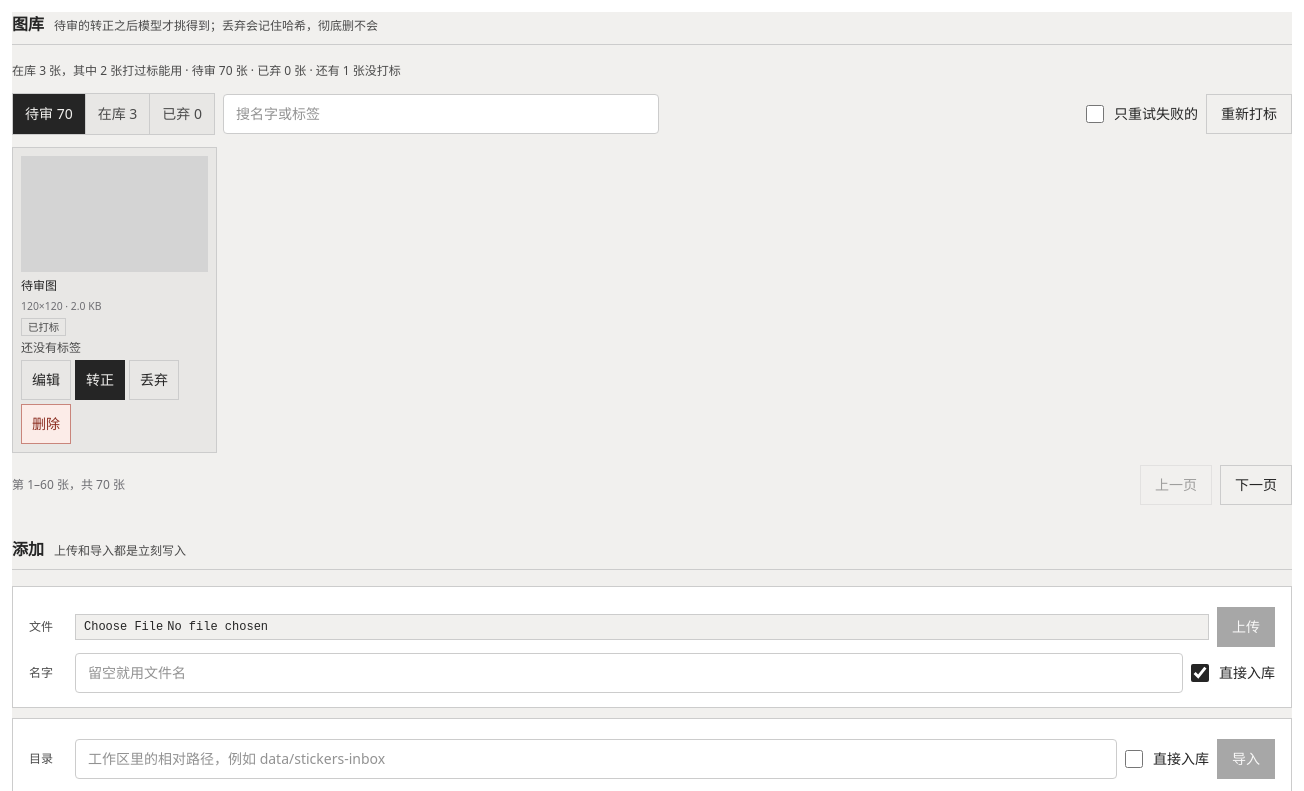
Test case: 图库的那一句提示 › 转正的回执读不懂：照转正了交代，回执的事另起一行报
expect the text "待审图" is shown: met, box [21,277,57,294]
Click the button "转正".
click(100, 380)  # box [75,360,125,400]
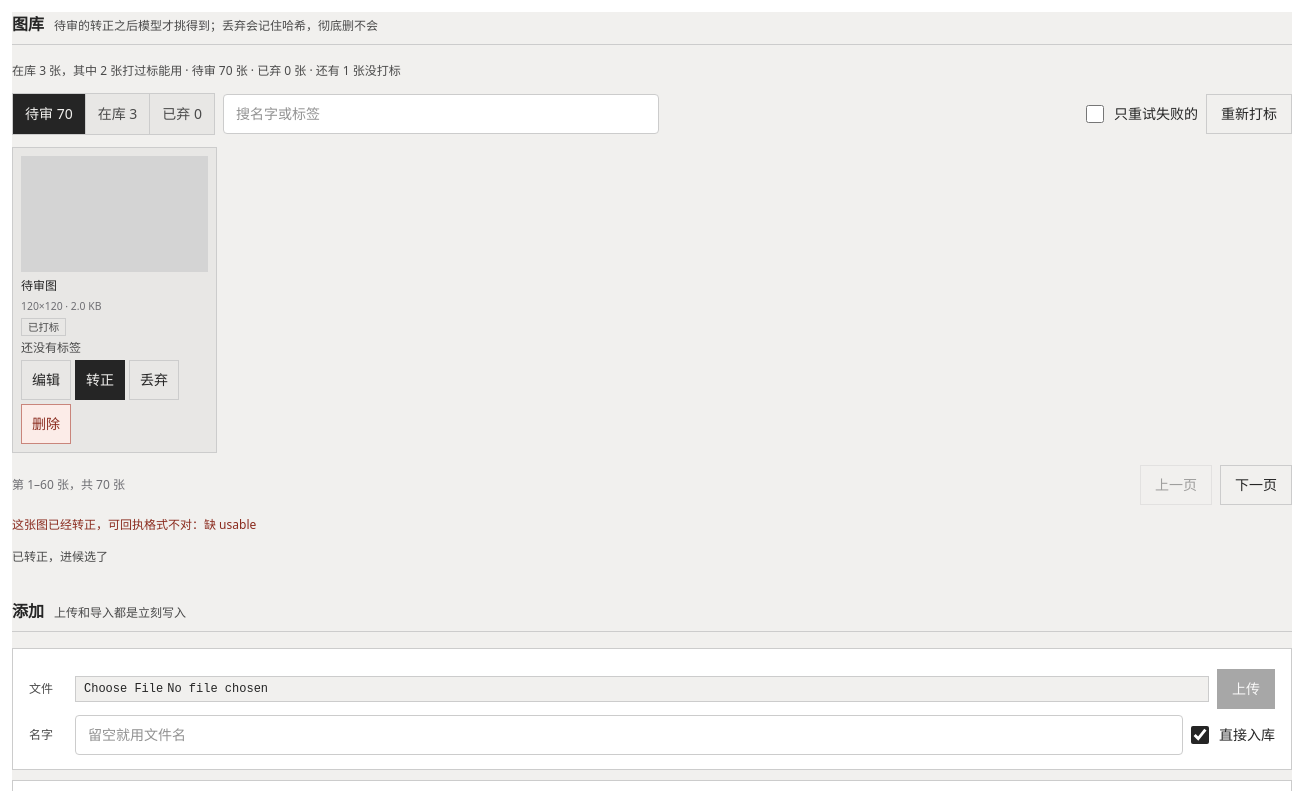
expect the text "已转正，进候选了" is shown: met, box [12,548,108,565]
